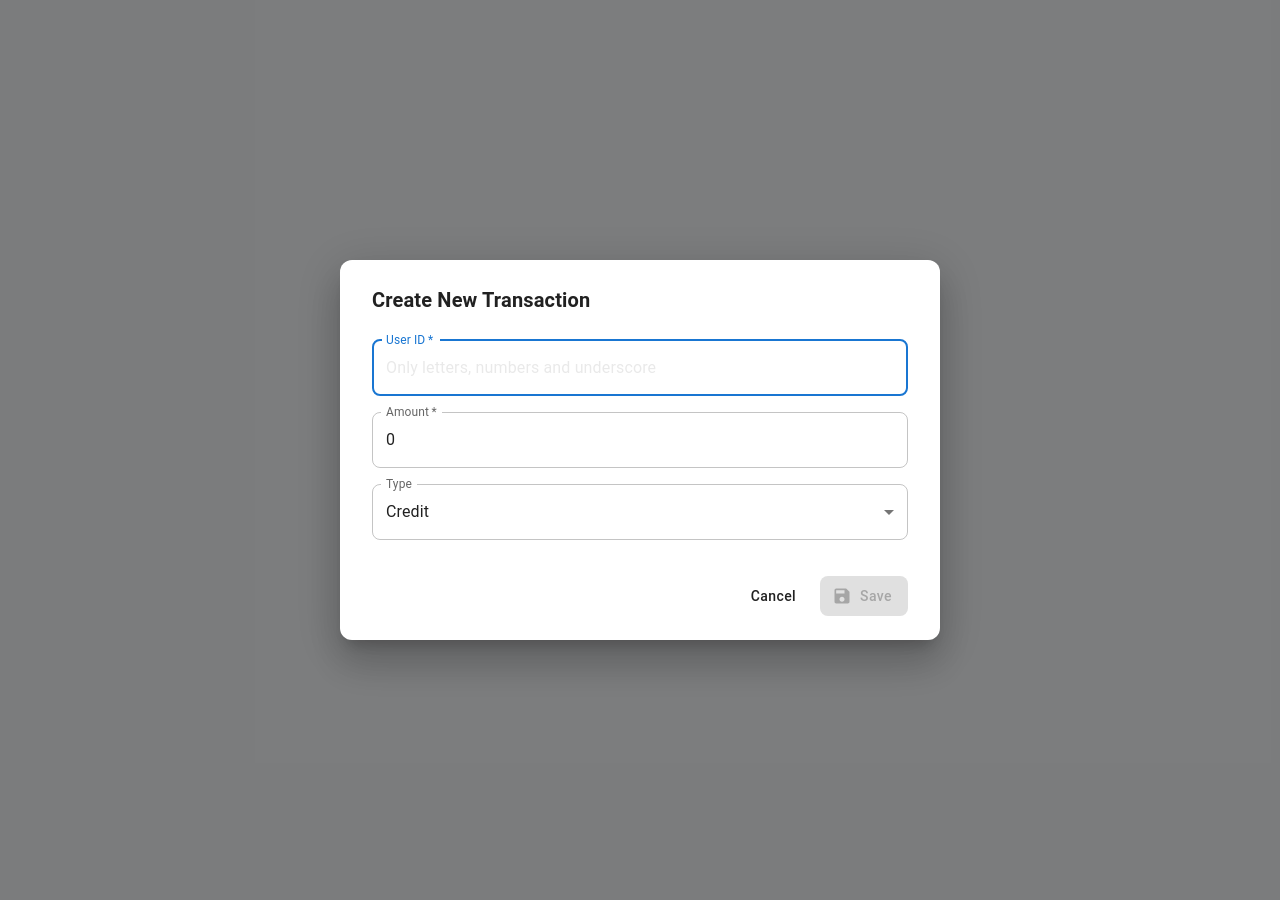
Test: TransactionModal Component › should filter invalid characters from user_id
The image size is (1280, 900).
Type "user@#$123" into the field labelled "User ID *" at (640, 368), box x1=372 y1=340 x2=908 y2=396
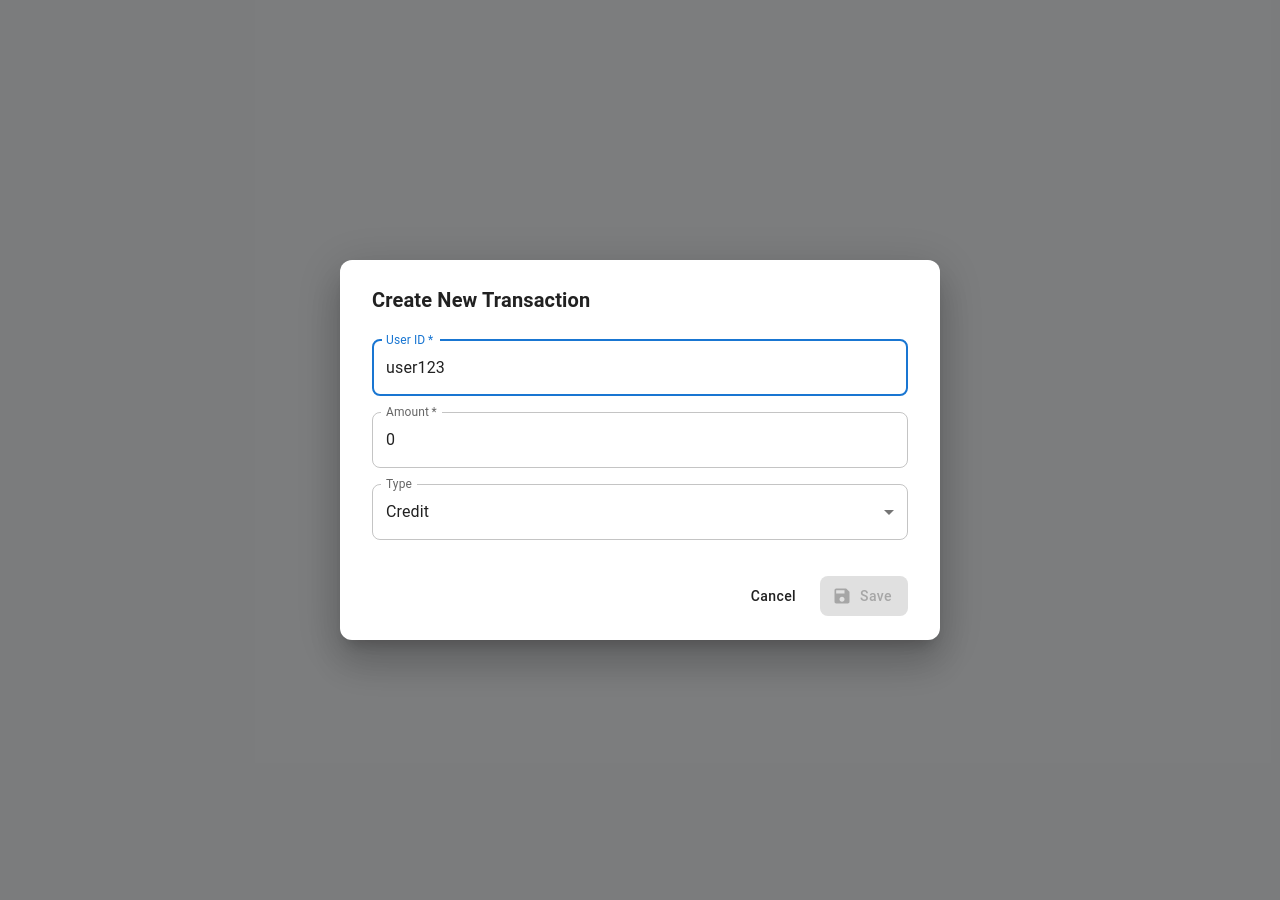
Check: the field labelled "User ID *" holds "user123", box x1=372 y1=340 x2=908 y2=396
